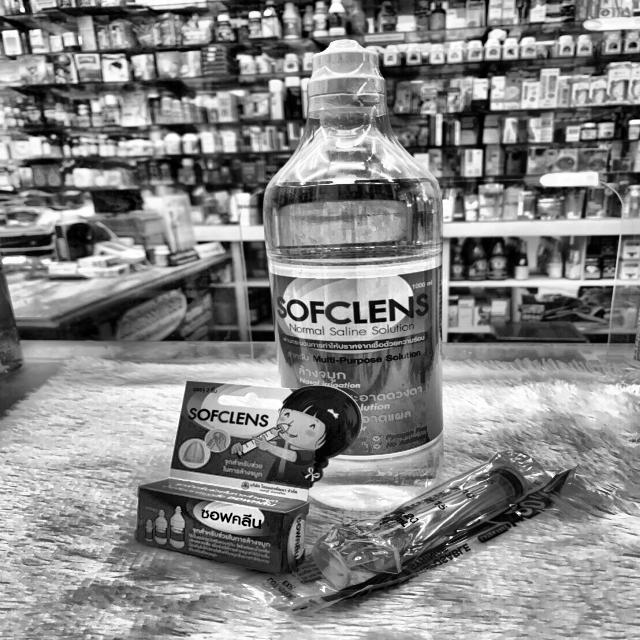waterbottle: (247, 25, 472, 584)
